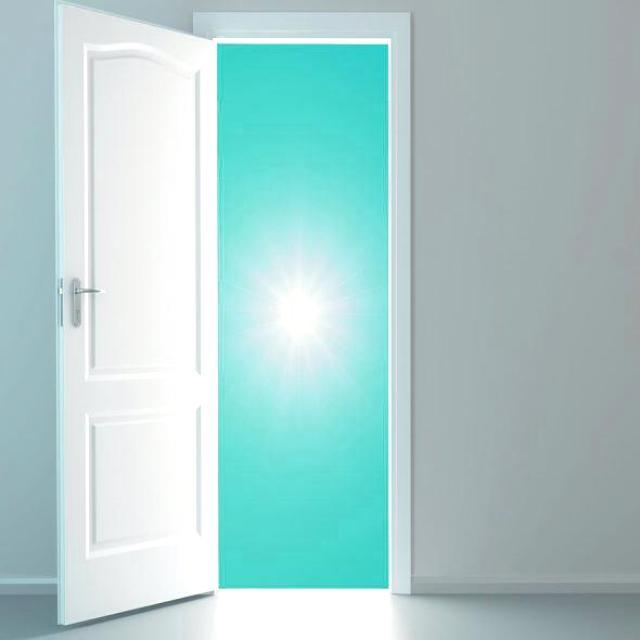Door: (54, 2, 219, 625)
